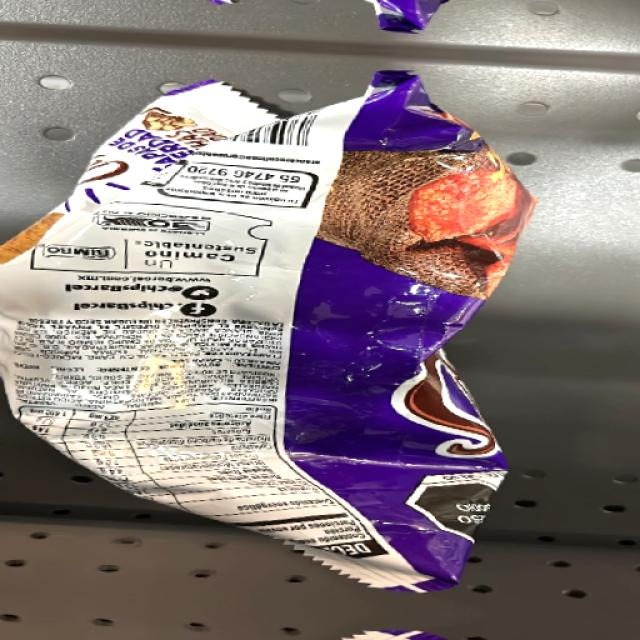productoAtras: (48, 99, 390, 582)
